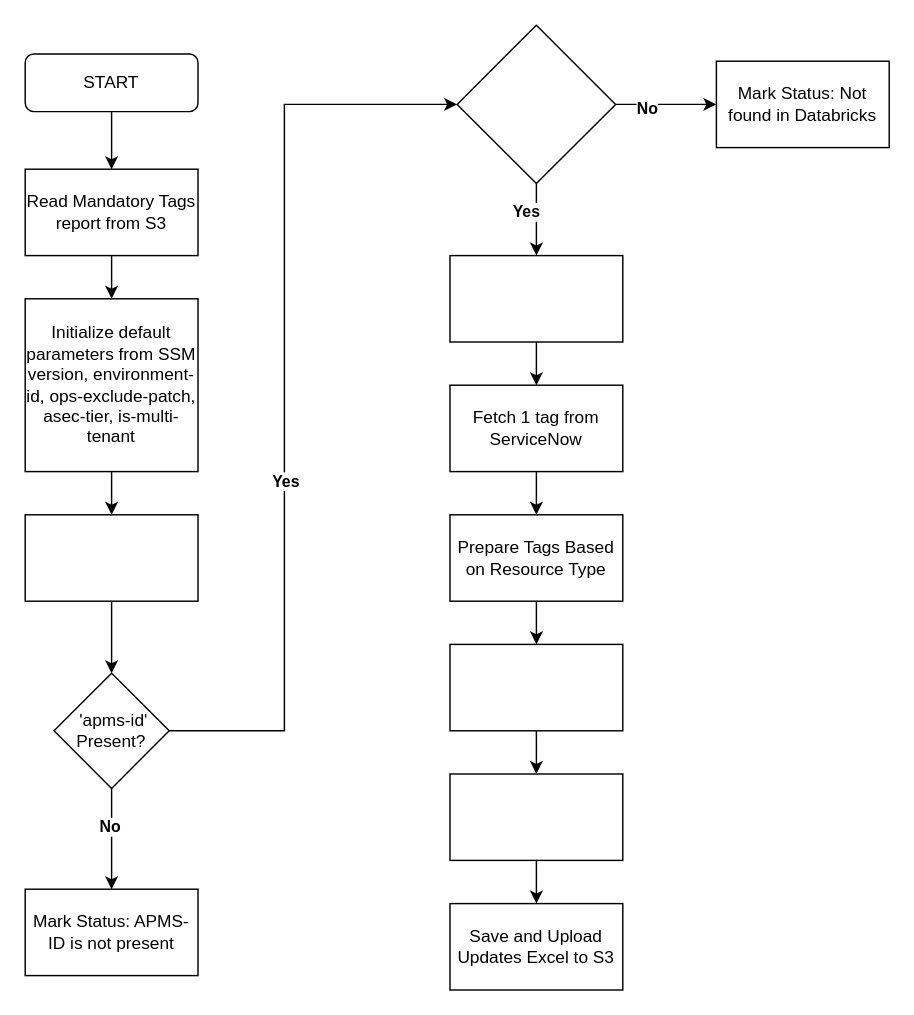
The diagram is 914 pixels wide and 1015 high, and some of its shapes have lost their labels. The shapes that lost their labels are listed below. From the top down, each one's centre as x and y in pixels, then its label:
At [536,104]: "'apms-id' Valid ?".
At [536,298]: "Fetch 4 Tags from Databricks".
At [111,557]: "Process Records".
At [536,687]: "Apply Tags to resources".
At [536,816]: "Update Status".
